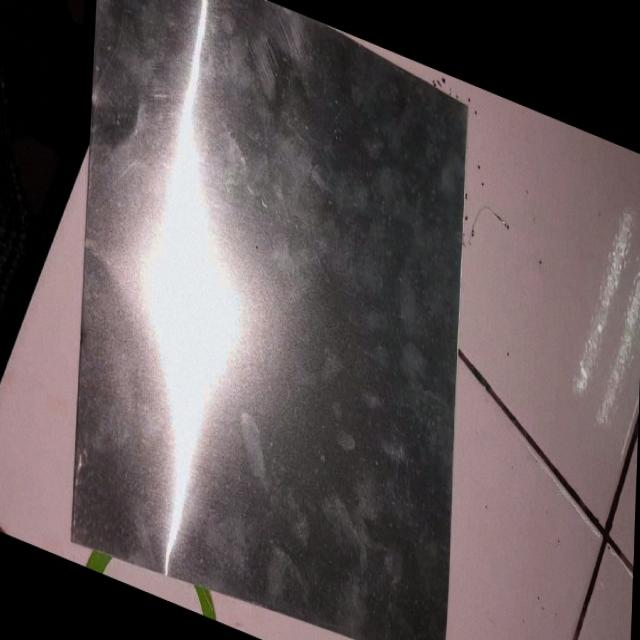TLC Plate: (70, 0, 474, 640)
